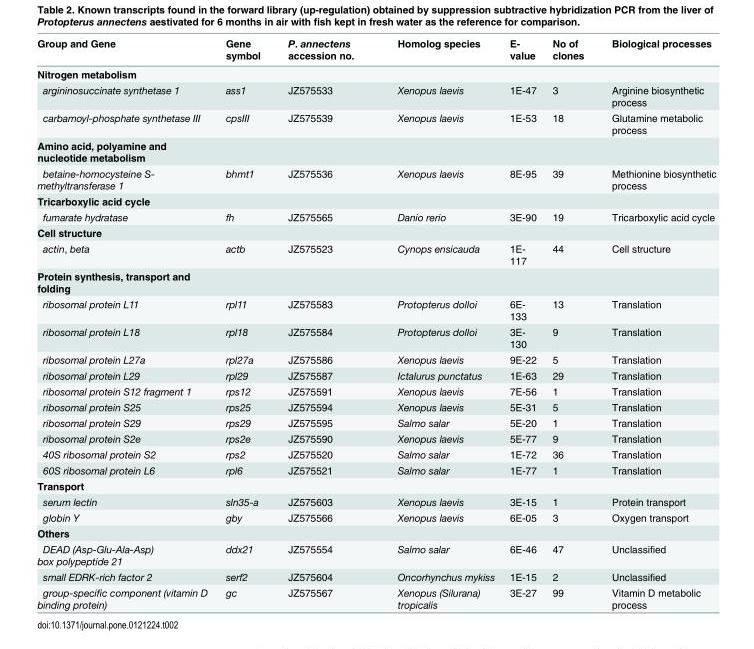table: (36, 36, 715, 610)
table column: (36, 36, 215, 610), (375, 36, 501, 610), (597, 36, 715, 610), (273, 36, 375, 610), (215, 36, 273, 610), (543, 36, 597, 610), (501, 36, 543, 610)
table column header: (36, 36, 715, 64)
table projected row header: (36, 137, 715, 165), (36, 267, 715, 295), (36, 64, 715, 81), (36, 192, 715, 208), (36, 224, 715, 240), (36, 477, 715, 493), (36, 525, 715, 540)
table row: (36, 36, 715, 64), (36, 81, 715, 109), (36, 109, 715, 137), (36, 137, 715, 165), (36, 267, 715, 295), (36, 295, 715, 323), (36, 323, 715, 351), (36, 540, 715, 568), (36, 165, 715, 192), (36, 240, 715, 267), (36, 584, 715, 610), (36, 64, 715, 81), (36, 192, 715, 208), (36, 208, 715, 224), (36, 224, 715, 240), (36, 351, 715, 367), (36, 367, 715, 383), (36, 398, 715, 414), (36, 414, 715, 430), (36, 430, 715, 446), (36, 461, 715, 477), (36, 477, 715, 493), (36, 493, 715, 509), (36, 509, 715, 525), (36, 568, 715, 584), (36, 383, 715, 398), (36, 446, 715, 461), (36, 525, 715, 540)
